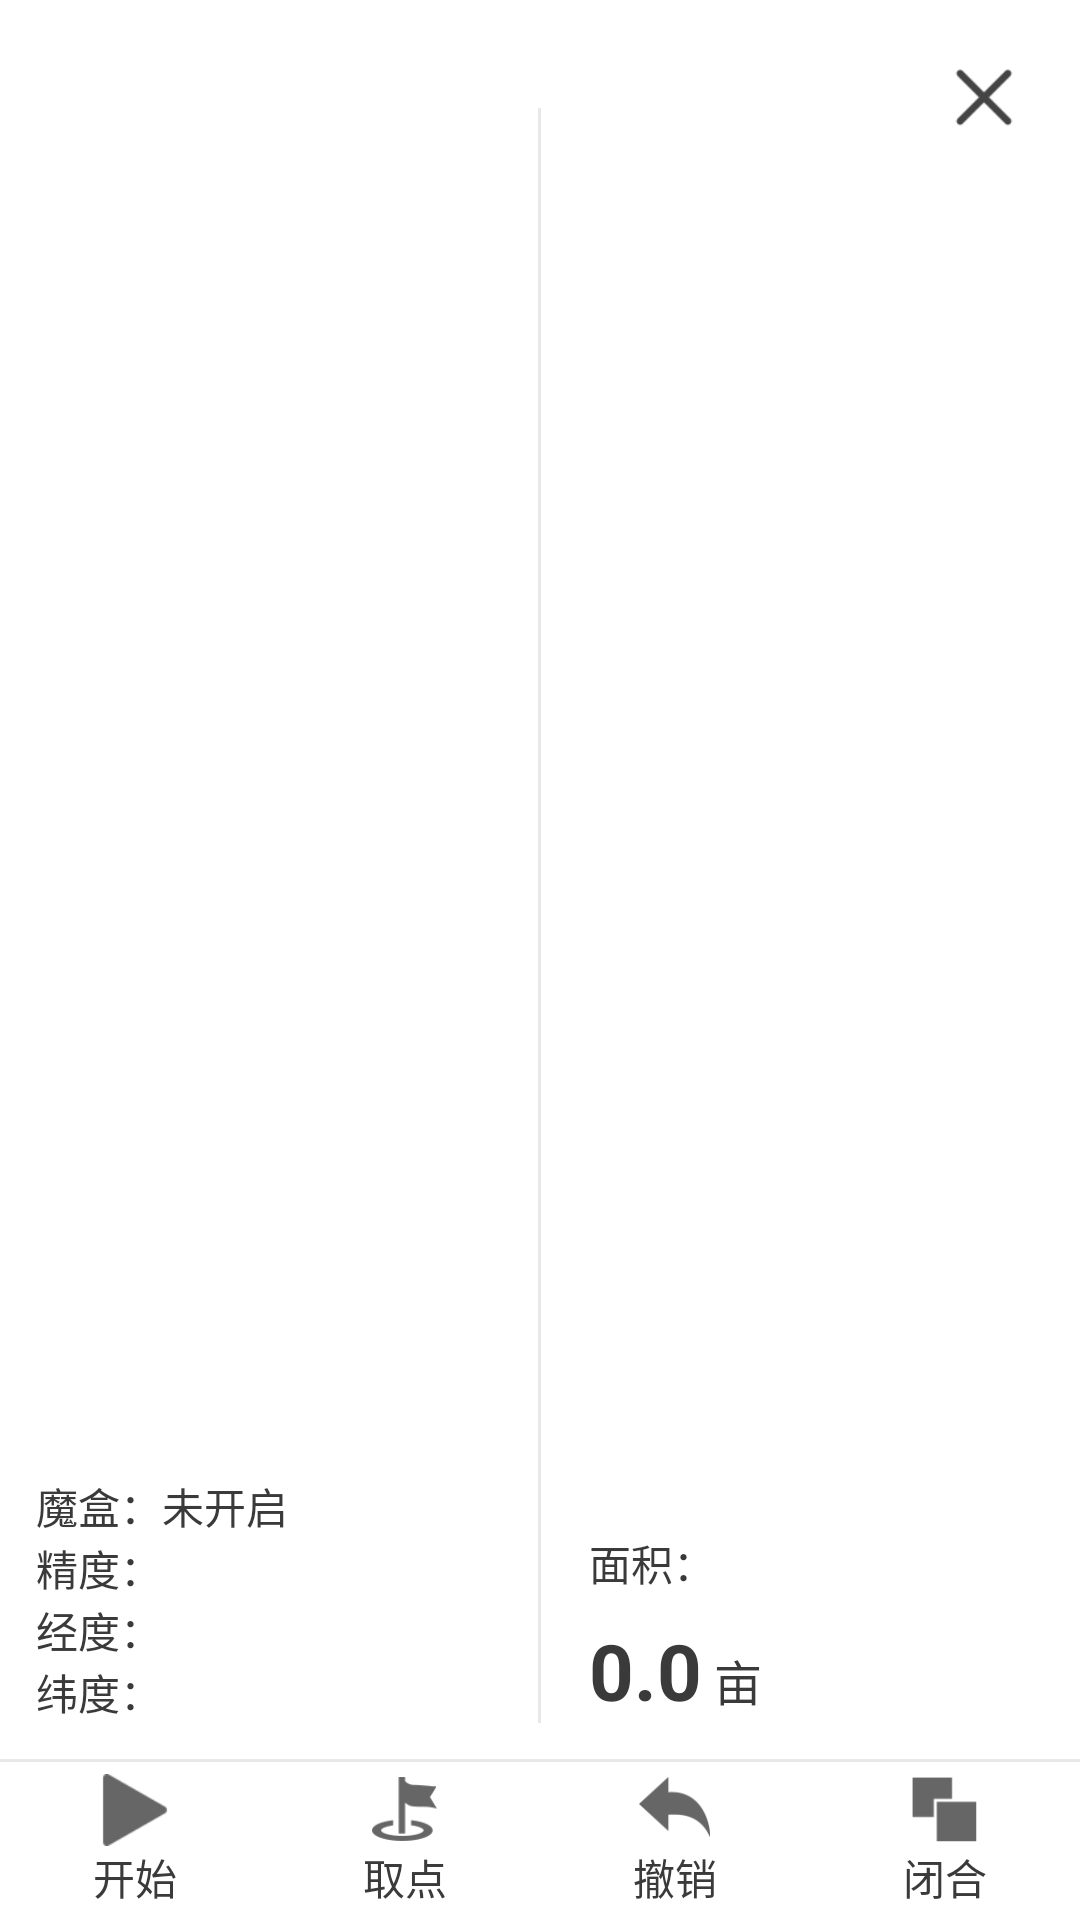

Icons on this 1080x1920 Android screen, each with the point to tap as point (x, y):
close: point (984, 97)
